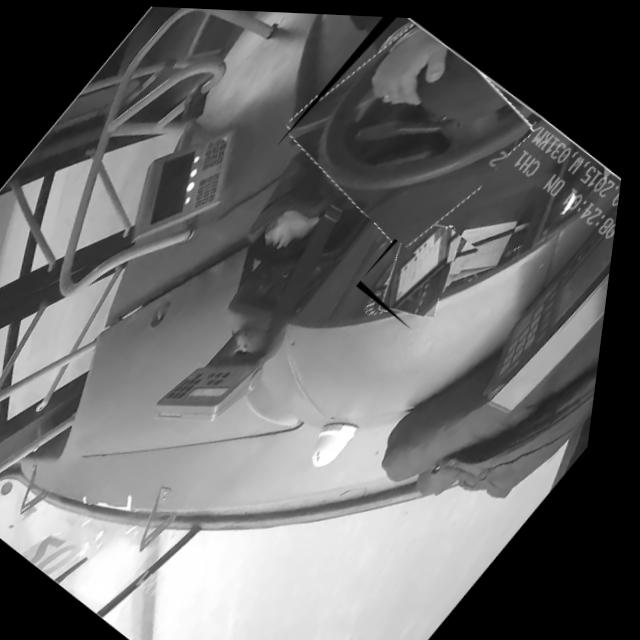phone: (358, 198, 488, 326)
wheel: (269, 10, 551, 257)
